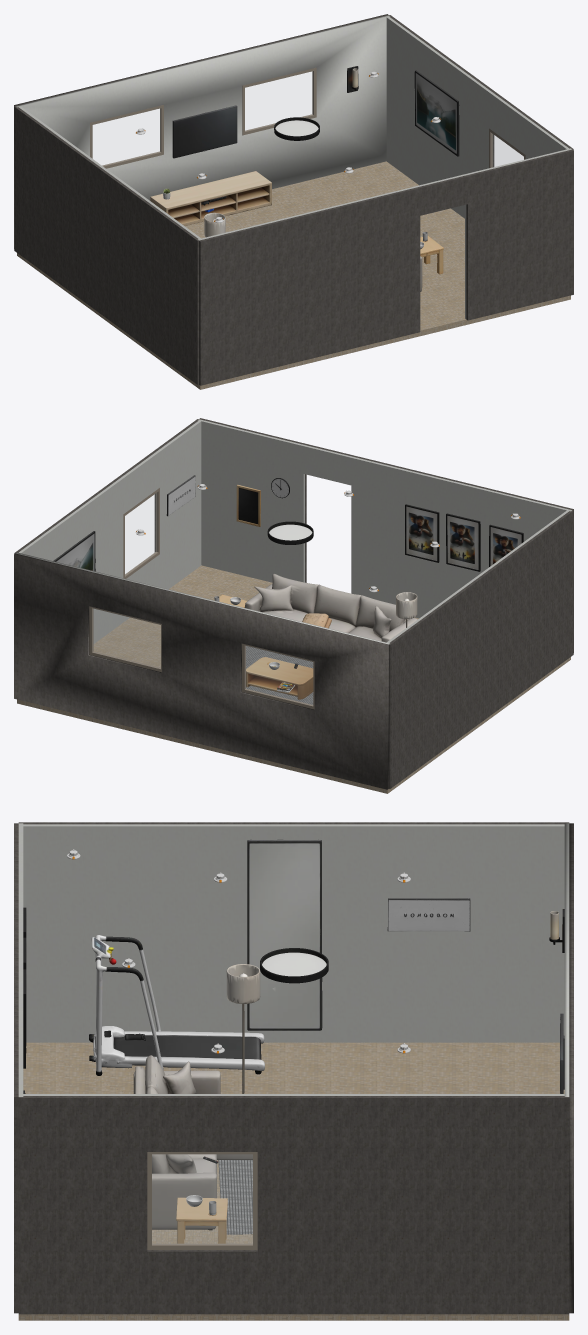
File: scene_web.glb
3 renders of one model, top to bottom at view 1: azimuth 30°, elevation 25°; view 2: azimuth 150°, elevation 25°; view 3: azimuth 270°, elevation 25°, orthographic. The views are drawn at different scales.
Visible parts, largest first — view 1: geometry_0.003, geometry_0, geometry_0.007, geometry_0.004, Mesh_0, geometry_0.010, glass.001, glass, geometry_0.014, geometry_0.017, geometry_0.002, geometry_0.001 (+7 smaller); view 2: geometry_0.001, geometry_0.002, geometry_0.007, geometry_0.004, Mesh_0, geometry_0.008, glass, glass.001, geometry_0.009, glass.002, geometry_0.022, geometry_0.021 (+14 smaller); view 3: geometry_0.005, geometry_0.006, Mesh_0, geometry_0.024, glass.002, geometry_0.013, geometry_0.008, geometry_0.025, geometry_0.001, geometry_0.003, Mesh_0.001, geometry_0.029 (+7 smaller).
Part boxes in pixels (x1=…): geometry_0.003: x1=199, y1=149, x2=573, y2=385; geometry_0: x1=16, y1=15, x2=389, y2=200; geometry_0.007: x1=14, y1=106, x2=198, y2=384; geometry_0.004: x1=386, y1=16, x2=568, y2=218; Mesh_0: x1=17, y1=161, x2=570, y2=389; geometry_0.010: x1=150, y1=171, x2=271, y2=225; glass.001: x1=245, y1=71, x2=312, y2=130; glass: x1=93, y1=109, x2=160, y2=165; geometry_0.014: x1=172, y1=105, x2=237, y2=158; geometry_0.017: x1=414, y1=70, x2=459, y2=156; geometry_0.002: x1=198, y1=148, x2=571, y2=318; geometry_0.001: x1=14, y1=14, x2=388, y2=248; geometry_0.001: x1=14, y1=553, x2=388, y2=789; geometry_0.002: x1=198, y1=419, x2=571, y2=618; geometry_0.007: x1=389, y1=510, x2=573, y2=788; geometry_0.004: x1=19, y1=420, x2=201, y2=643; Mesh_0: x1=17, y1=565, x2=570, y2=793; geometry_0.008: x1=245, y1=573, x2=417, y2=642; glass: x1=245, y1=646, x2=312, y2=705; glass.001: x1=93, y1=609, x2=160, y2=668; geometry_0.009: x1=246, y1=657, x2=313, y2=699; glass.002: x1=125, y1=493, x2=156, y2=574; geometry_0.022: x1=446, y1=513, x2=480, y2=571; geometry_0.021: x1=405, y1=504, x2=439, y2=562; geometry_0.005: x1=18, y1=1096, x2=569, y2=1314; geometry_0.006: x1=23, y1=824, x2=564, y2=1042; Mesh_0: x1=18, y1=1042, x2=569, y2=1320; geometry_0.024: x1=247, y1=839, x2=322, y2=1030; glass.002: x1=152, y1=1154, x2=252, y2=1244; geometry_0.013: x1=89, y1=935, x2=264, y2=1075; geometry_0.008: x1=133, y1=1055, x2=252, y2=1230; geometry_0.025: x1=387, y1=898, x2=470, y2=931; geometry_0.001: x1=569, y1=823, x2=573, y2=1313; geometry_0.003: x1=14, y1=823, x2=18, y2=1313; Mesh_0.001: x1=218, y1=1160, x2=252, y2=1234; geometry_0.029: x1=260, y1=948, x2=328, y2=983.
Size of the model in its own units: 7.1 by 2.7 by 6.1.
Materials: 36 (34 with a texture image).
